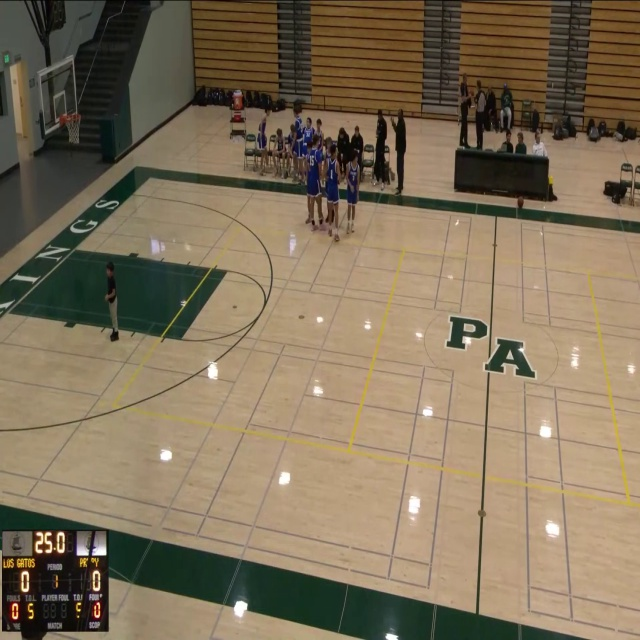Basketball: (517, 197, 524, 208)
